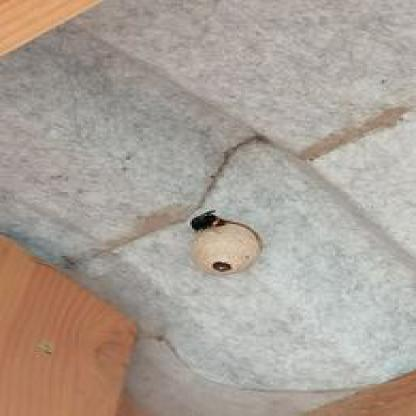Asian Hornet: (186, 209, 231, 236)
